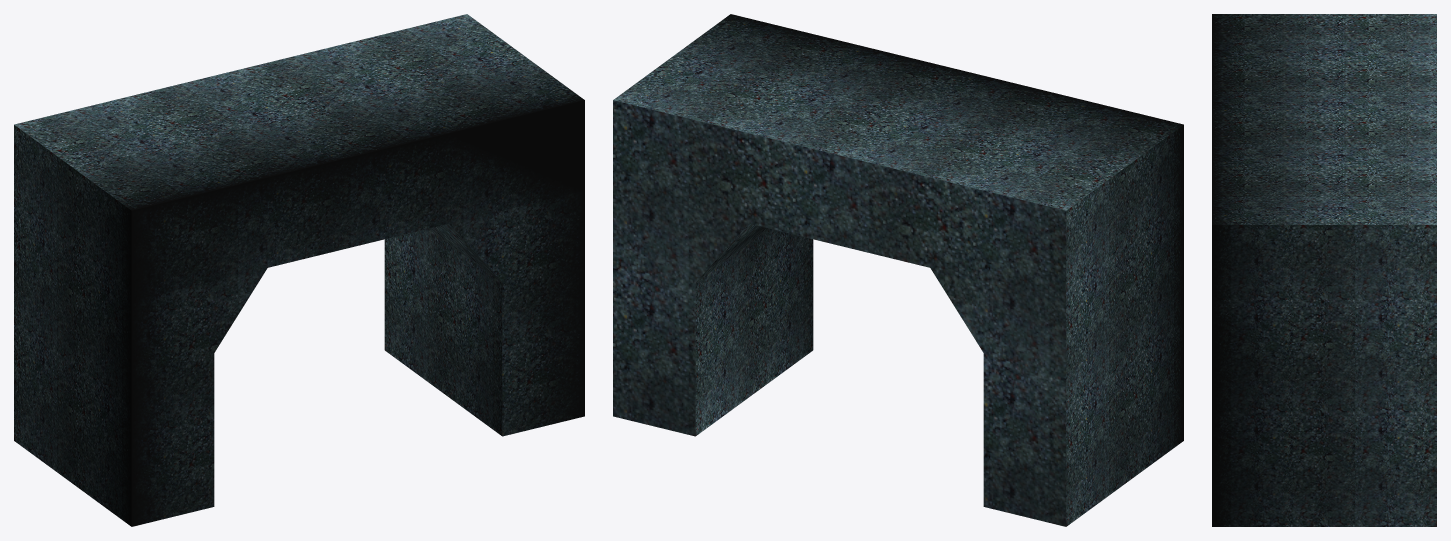
File: K_OUSAKA_IN.glb
The picture shows the model from 3 angles, left to right: view 1: azimuth 30°, elevation 25°; view 2: azimuth 150°, elevation 25°; view 3: azimuth 270°, elevation 25°; orthographic projection. The views are drawn at different scales.
Parts seen in each view (by area): view 1: obj2; view 2: obj2; view 3: obj2.
Part boxes in pixels (left/top/right/bottom): obj2: left=14, top=14, right=584, bottom=526; obj2: left=613, top=14, right=1183, bottom=526; obj2: left=1212, top=14, right=1436, bottom=526.
Bounding box in the file's own units: 30 × 20 × 13.5.
1 material, 1 textured.
